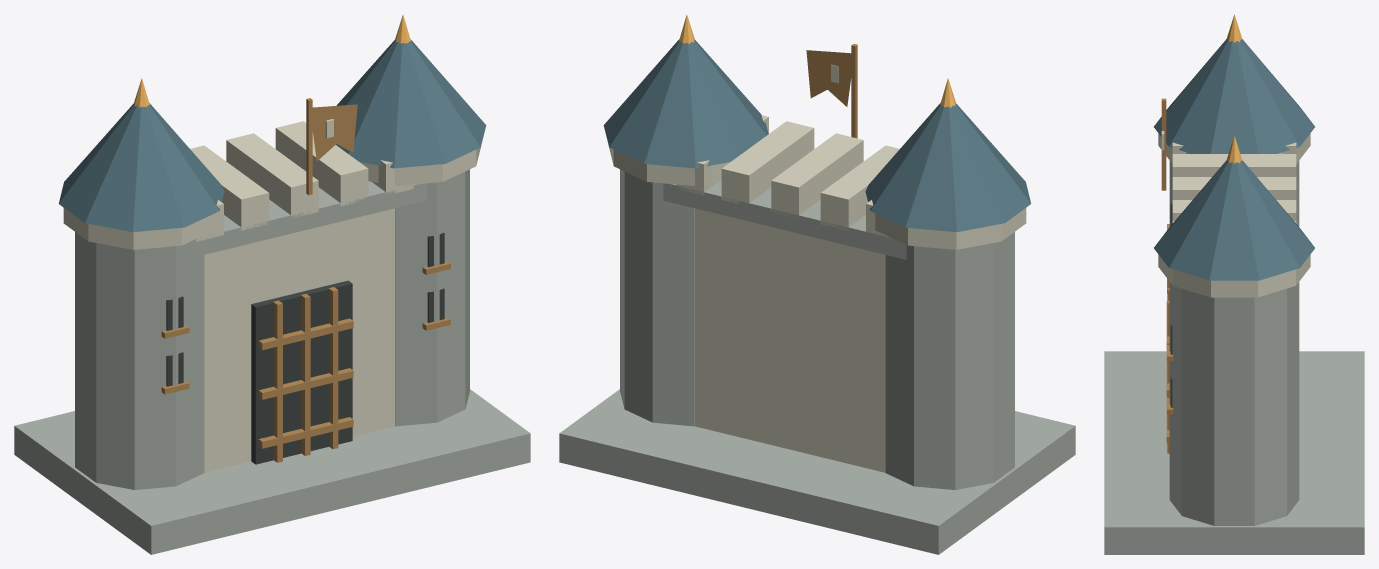
Rendered from SM_FrontierGateV6.fbx.
The picture shows the model from 3 angles, left to right: view 1: azimuth 30°, elevation 25°; view 2: azimuth 150°, elevation 25°; view 3: azimuth 270°, elevation 25°; orthographic projection. The views are drawn at different scales.
Parts seen in each view (by area): view 1: SM_FrontierGateV6; view 2: SM_FrontierGateV6; view 3: SM_FrontierGateV6.
Boxes of the visible parts, <box> form: SM_FrontierGateV6: <box>14,14,530,554</box>; SM_FrontierGateV6: <box>559,14,1075,554</box>; SM_FrontierGateV6: <box>1104,14,1364,554</box>.
Bounding box in the file's own units: 5.5 × 3.25 × 5.41.
